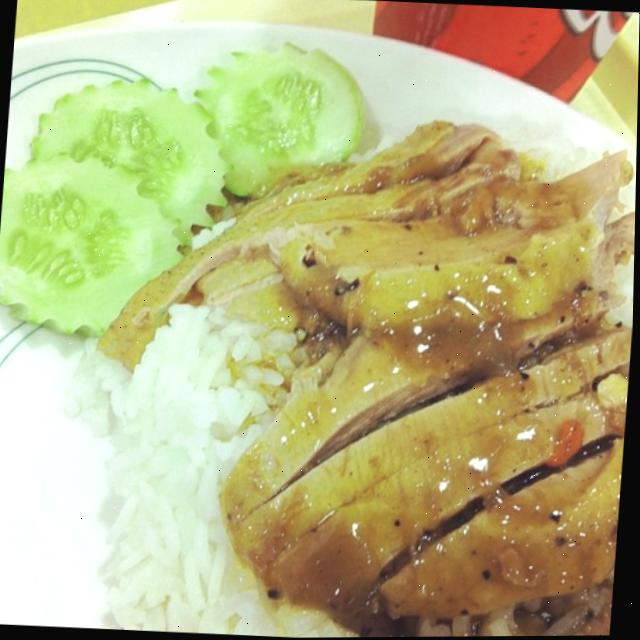米饭主食: (65, 94, 638, 640)
